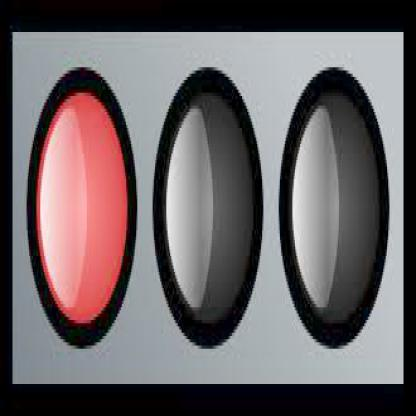traffic-light: (13, 36, 400, 374)
